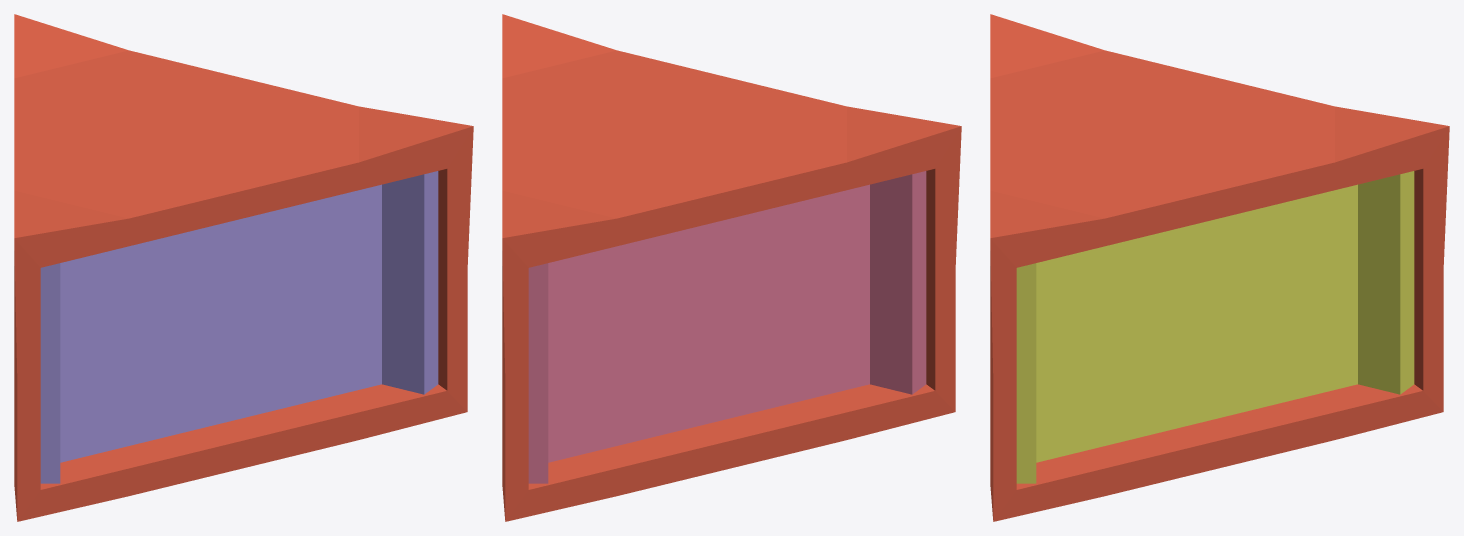
Rendered from FlashBox3.fbx.
3 renders of one model, left to right at view 1: azimuth 30°, elevation 25°; view 2: azimuth 150°, elevation 25°; view 3: azimuth 270°, elevation 25°, orthographic.
Visible parts, largest first — view 1: Outer; view 2: Outer; view 3: Outer.
Boxes of the visible parts, <box> form: Outer: <box>14,14,473,521</box>; Outer: <box>502,14,961,521</box>; Outer: <box>990,14,1449,521</box>.
Size of the model in its own units: 173 by 103 by 150.
